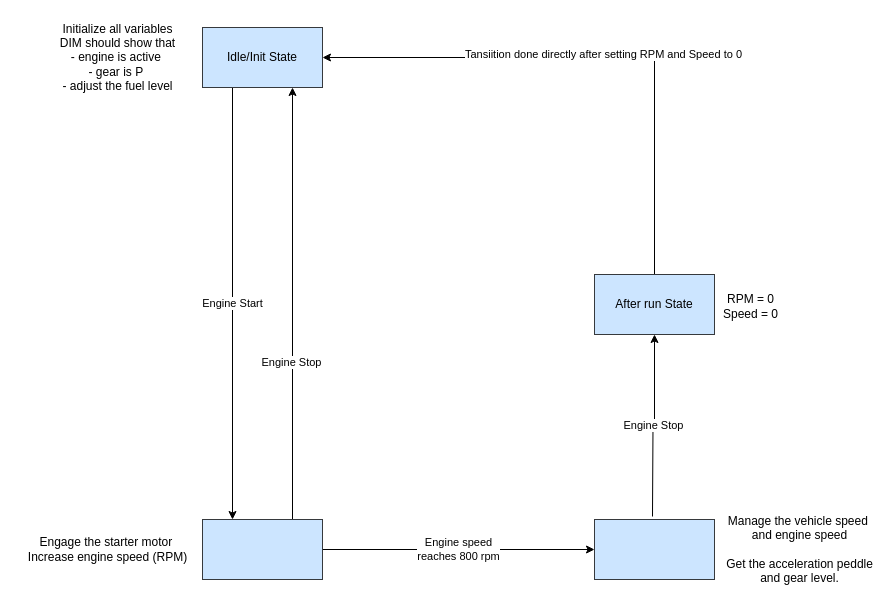
Image size: 896x606. Some labels were removed from this diagram. Here are the shapes that lost their labels. From the top down, the box of each, then its label:
(202, 518, 322, 580): Starting In Progress State
(594, 518, 714, 580): Running State
